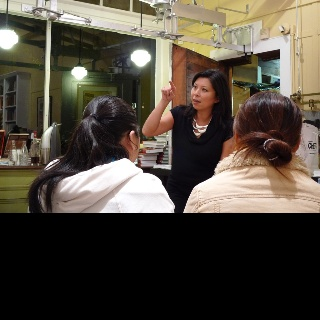without_mask: (191, 76, 219, 110), (129, 122, 140, 162)
